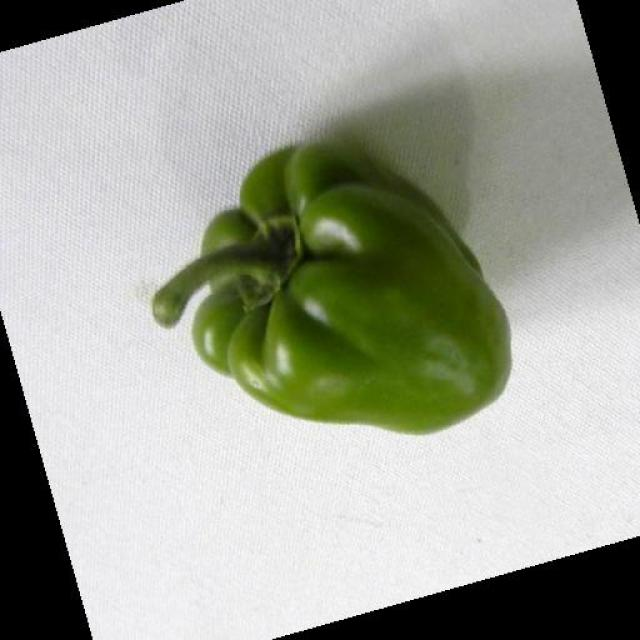Fresh_Capsicum: (162, 145, 520, 446)
